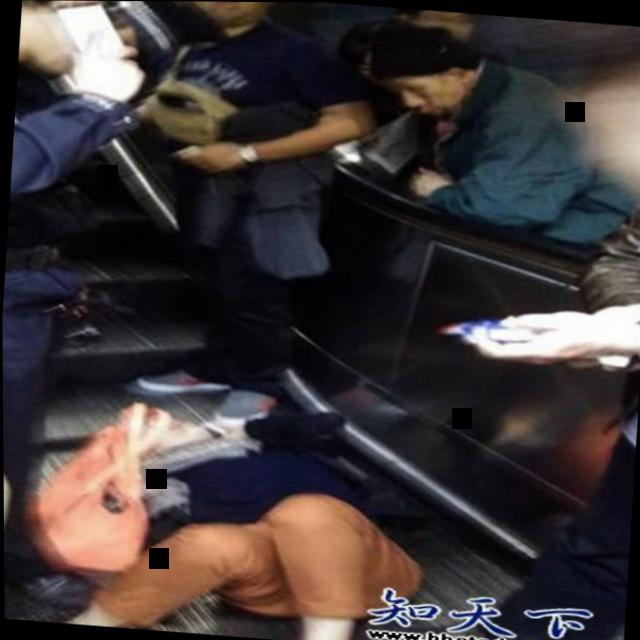Fall-Detected: (2, 340, 438, 640)
